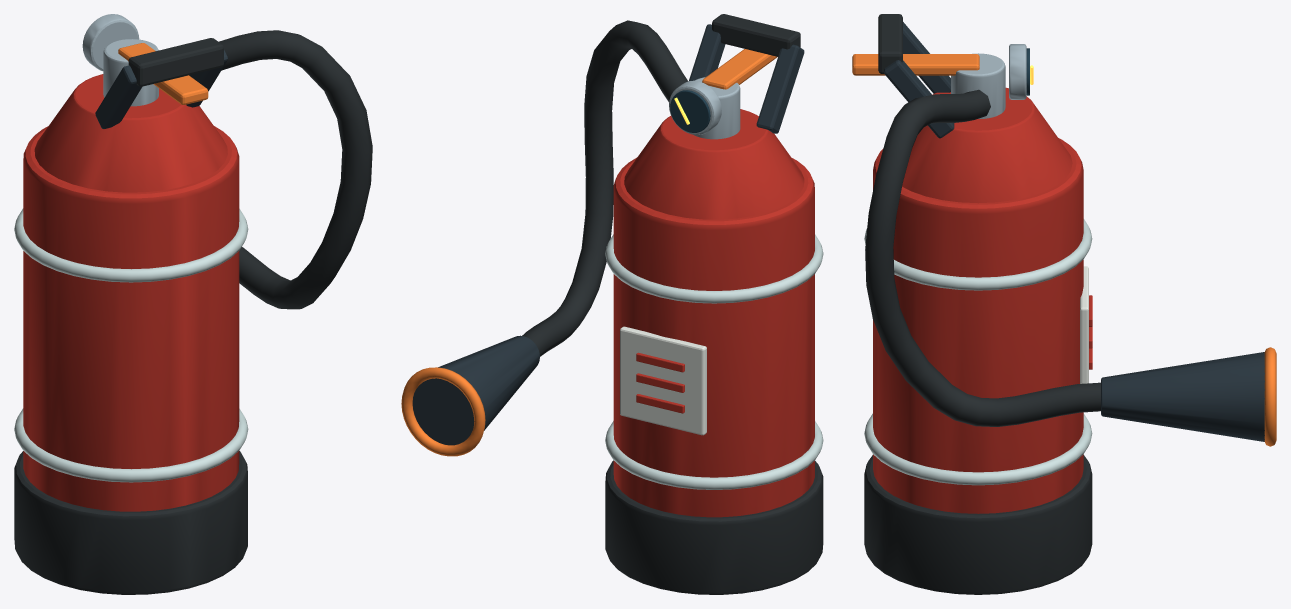
The model's file is foam_extinguisher.glb.
3 renders of one model, left to right at view 1: azimuth 30°, elevation 25°; view 2: azimuth 150°, elevation 25°; view 3: azimuth 270°, elevation 25°, orthographic. The views are drawn at different scales.
Visible parts, largest first — view 1: foam_extinguisher_mesh, Lever; view 2: foam_extinguisher_mesh, Lever; view 3: foam_extinguisher_mesh, Lever.
Boxes of the visible parts, x1=… form: foam_extinguisher_mesh: x1=14, y1=14, x2=372, y2=594; Lever: x1=118, y1=43, x2=208, y2=104; foam_extinguisher_mesh: x1=401, y1=14, x2=823, y2=594; Lever: x1=702, y1=49, x2=777, y2=89; foam_extinguisher_mesh: x1=864, y1=14, x2=1276, y2=594; Lever: x1=852, y1=54, x2=979, y2=75.
Size of the model in its own units: 0.371 by 0.649 by 0.4835.
